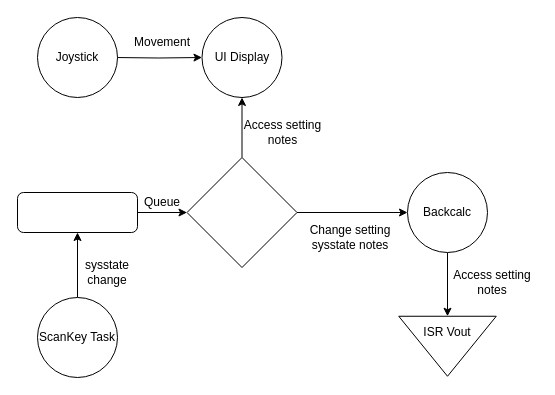
Some shapes in this 555 by 395 pixel diagram are drawn without their labels. The shapes that lost their labels are listed below. From the top down, each one's centre as x and y in pixels, then its label:
At (x=77, y=212): "CAN_TX".
At (x=241, y=212): "Decode".
